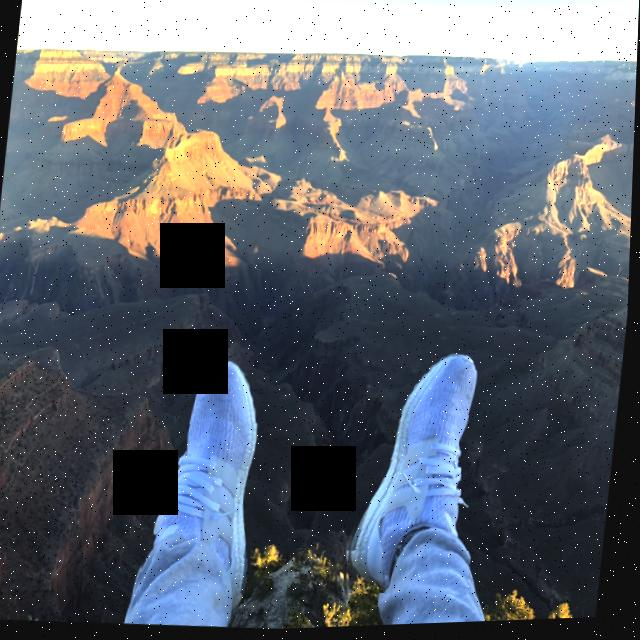shoe: (343, 345, 496, 604), (137, 355, 274, 632)
